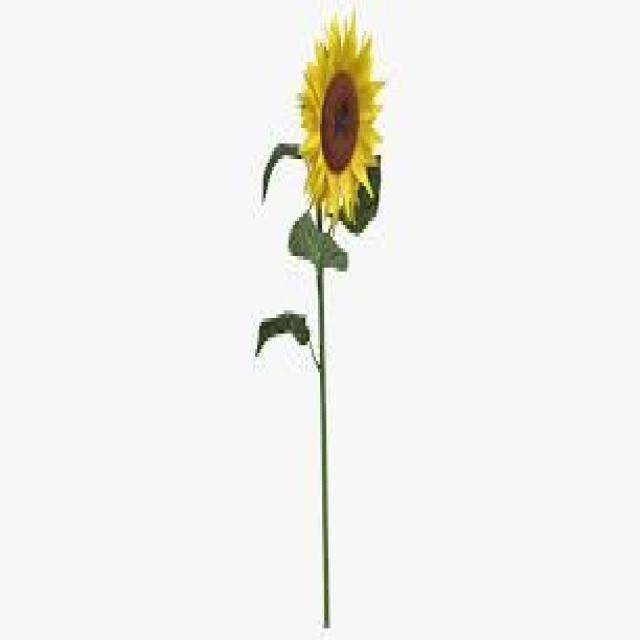sunflower: (291, 2, 393, 248)
